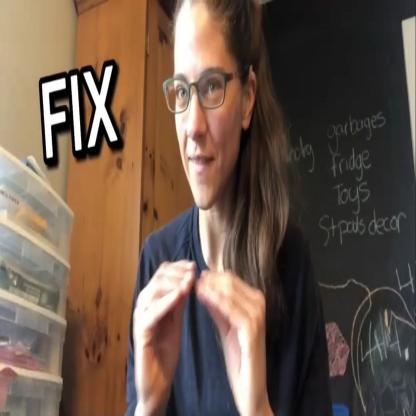Fix: (134, 247, 275, 416)
